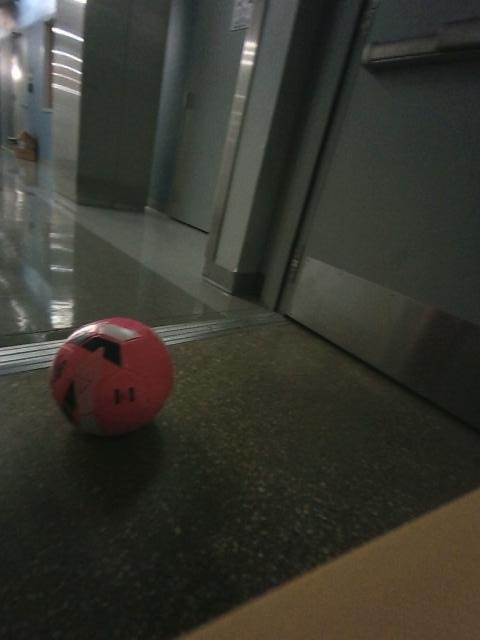ball: (50, 317, 172, 434)
